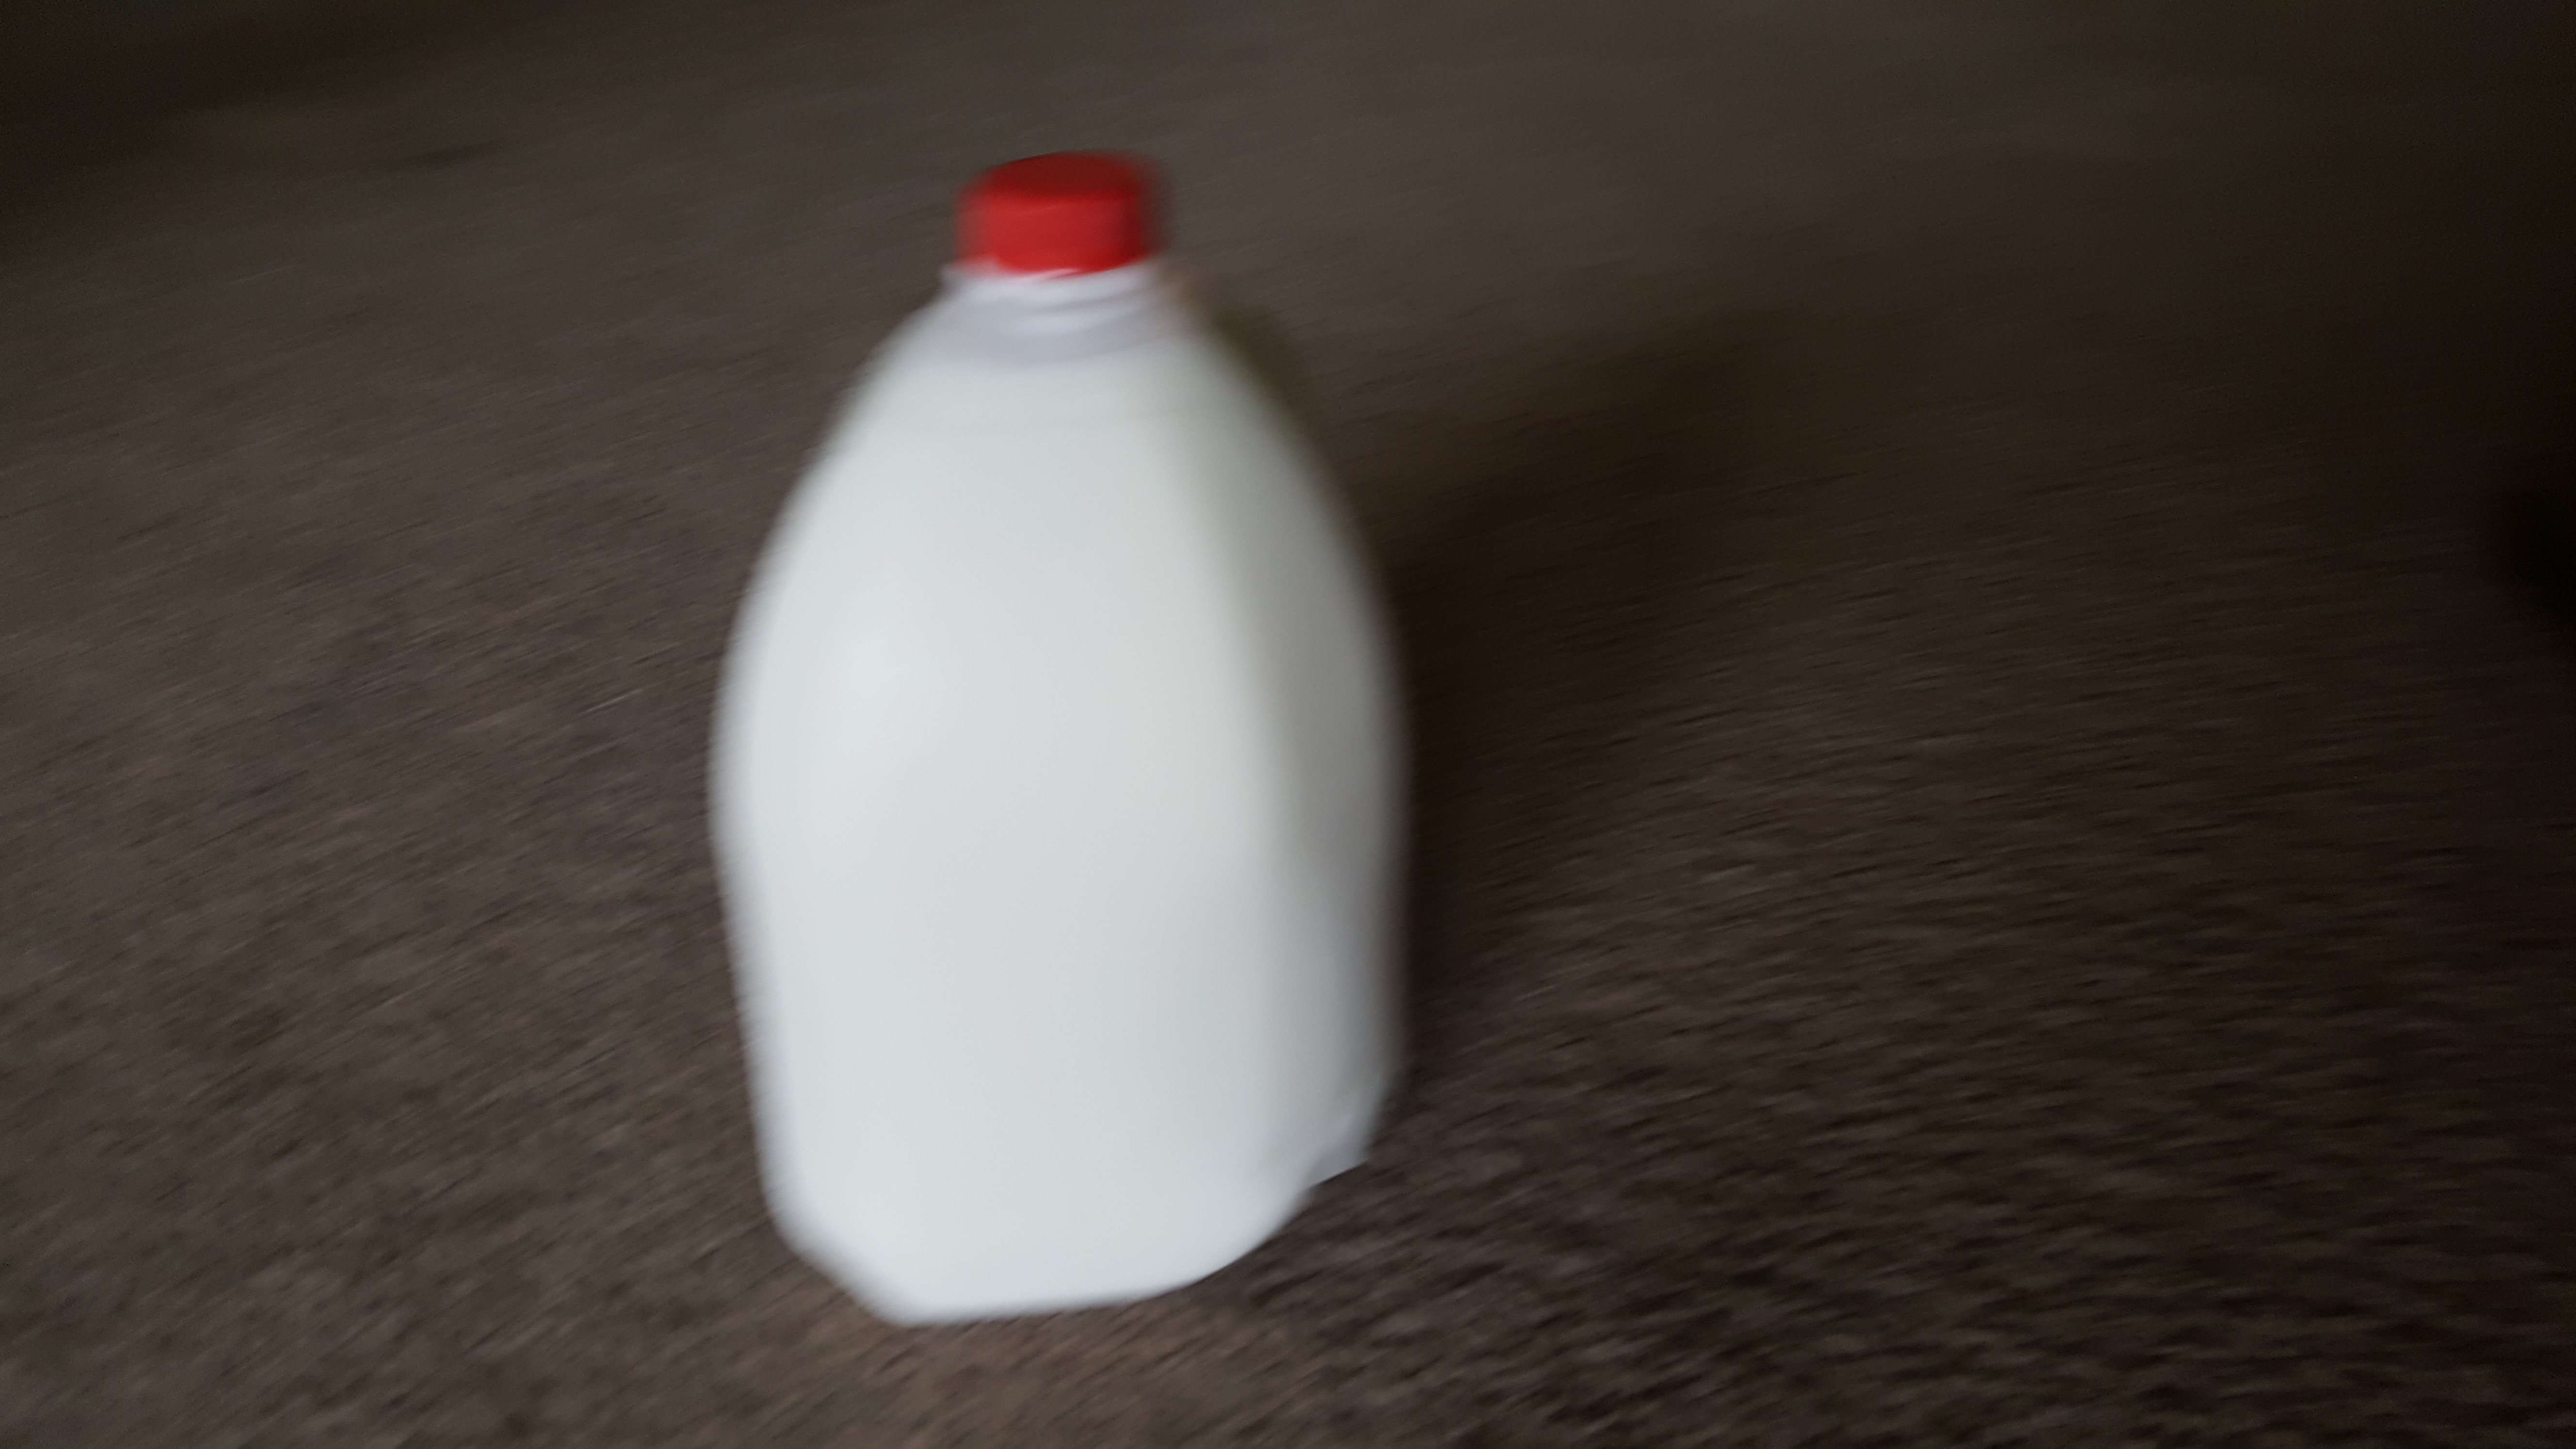milk: (612, 147, 1440, 1334)
